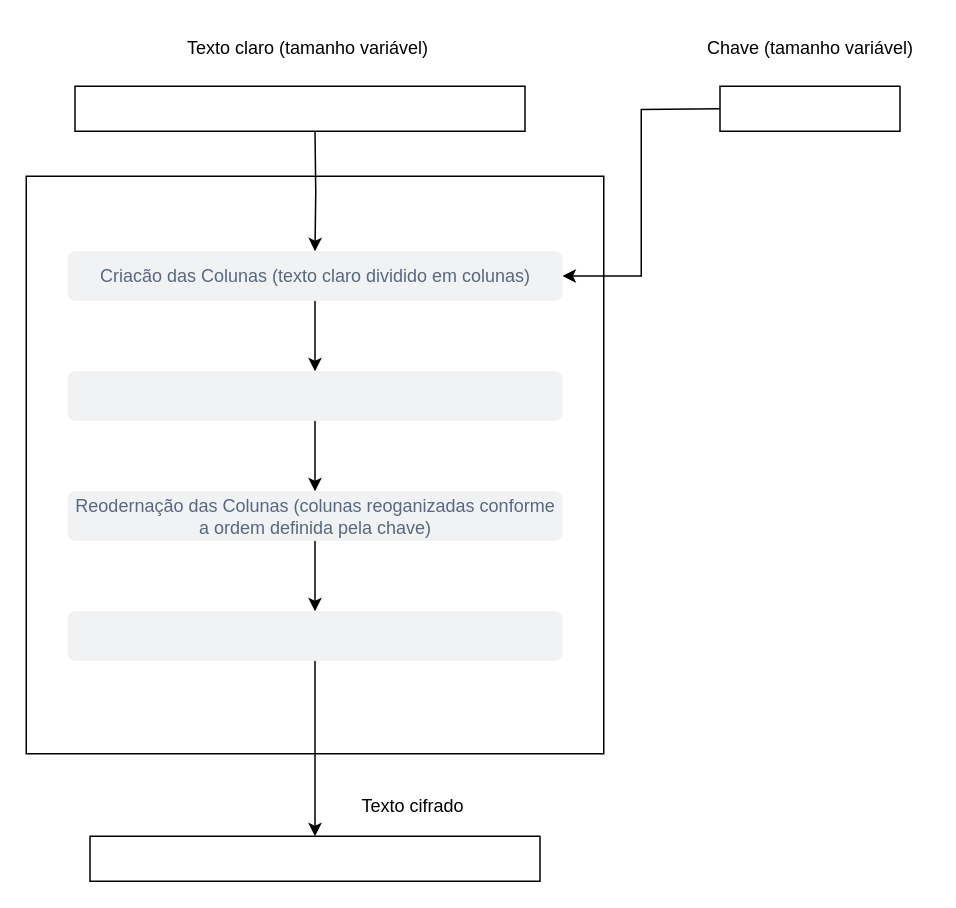
Image size: 956x908. Some labels were removed from this diagram. The shapes that lost their labels are listed below. From the top down, each one's centre as x and y in pixels, then its label:
(x=314, y=395): Rotação das Colunas (as colunas são rotacionadas em 90, 180 ou 270 graus)
(x=314, y=635): Concantenar as Colunas (colunas combinadas para formar o texto cifrado)
